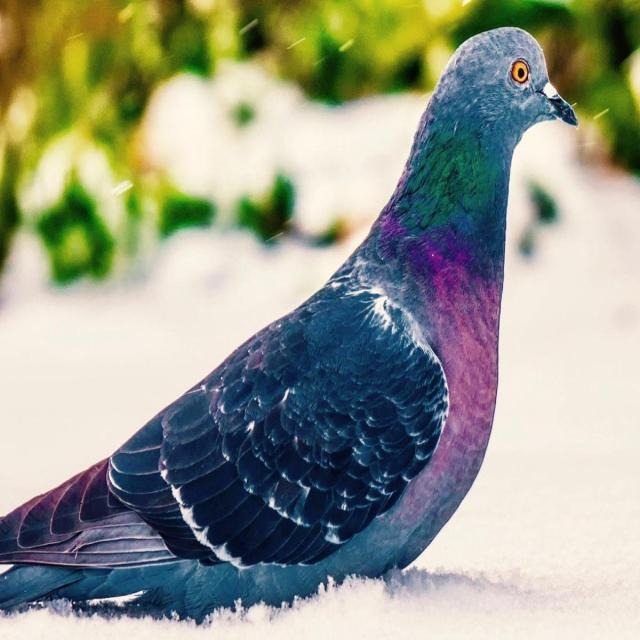Pigeon: (0, 22, 586, 616)
